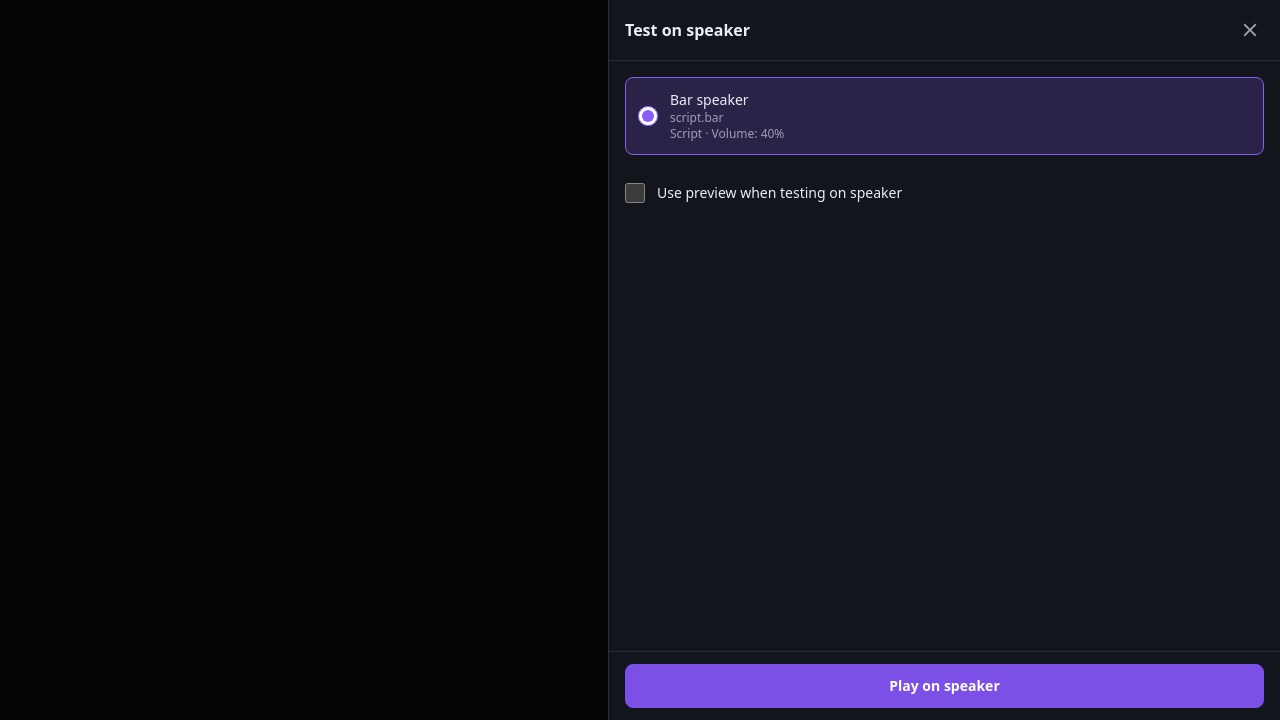
Test case: lists script details and only displays script volume
Step 1. Click the checkbox with test id "use-preview" → (635, 193), box top-left (625, 183), bottom-right (645, 203)
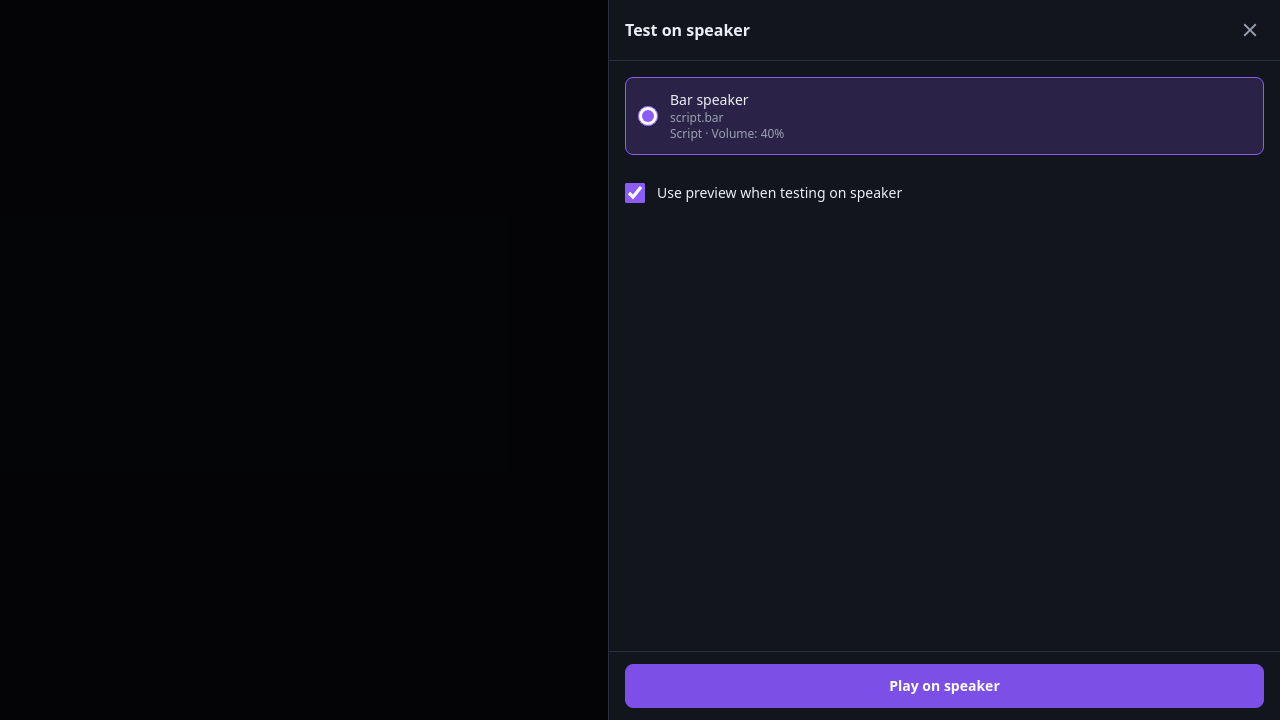
Step 2. Click the button with test id "send-audition" → (944, 686), box top-left (625, 664), bottom-right (1264, 708)
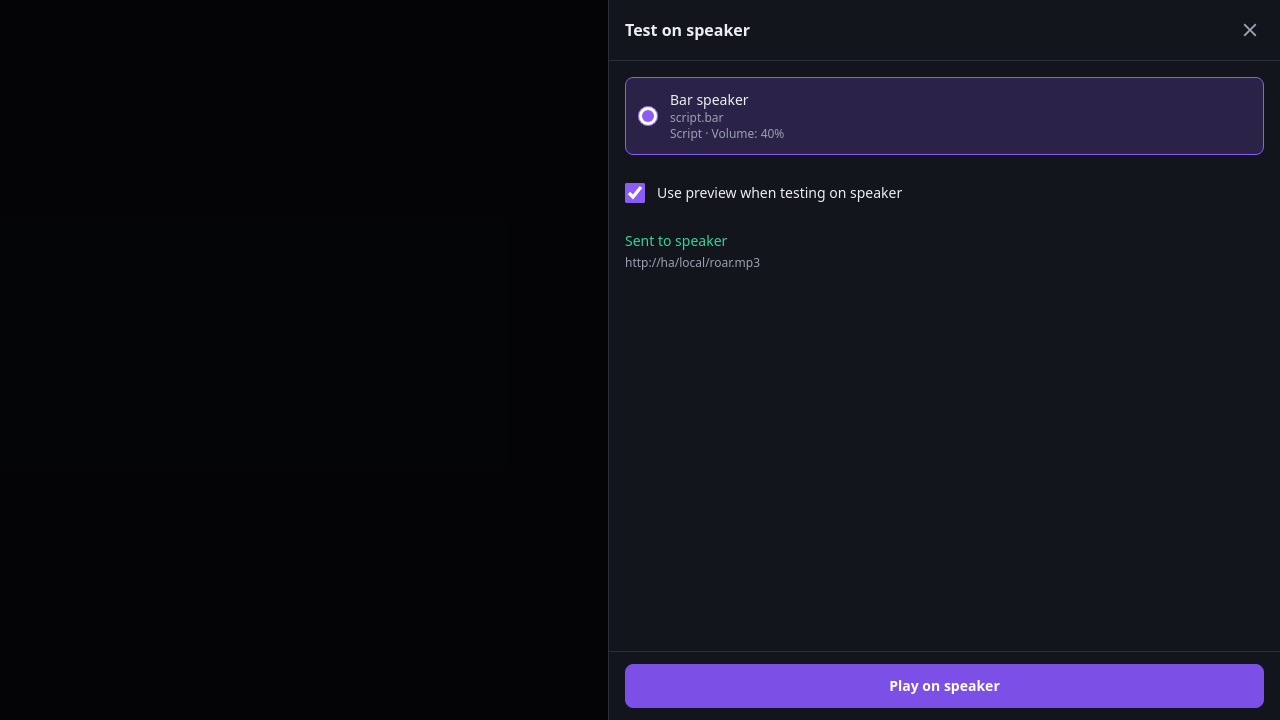
Expected: the text "http://ha/local/roar.mp3" is shown, top-left (625, 254), bottom-right (760, 271)
